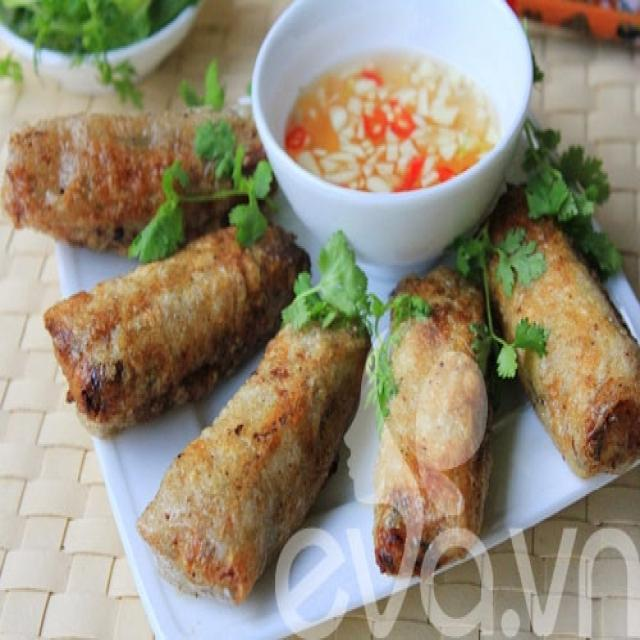炸货点心: (1, 38, 634, 634)
